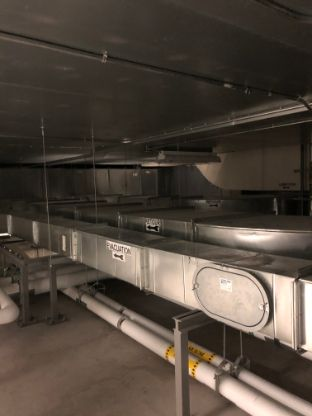Duct: (2, 201, 312, 356), (1, 184, 311, 260)
